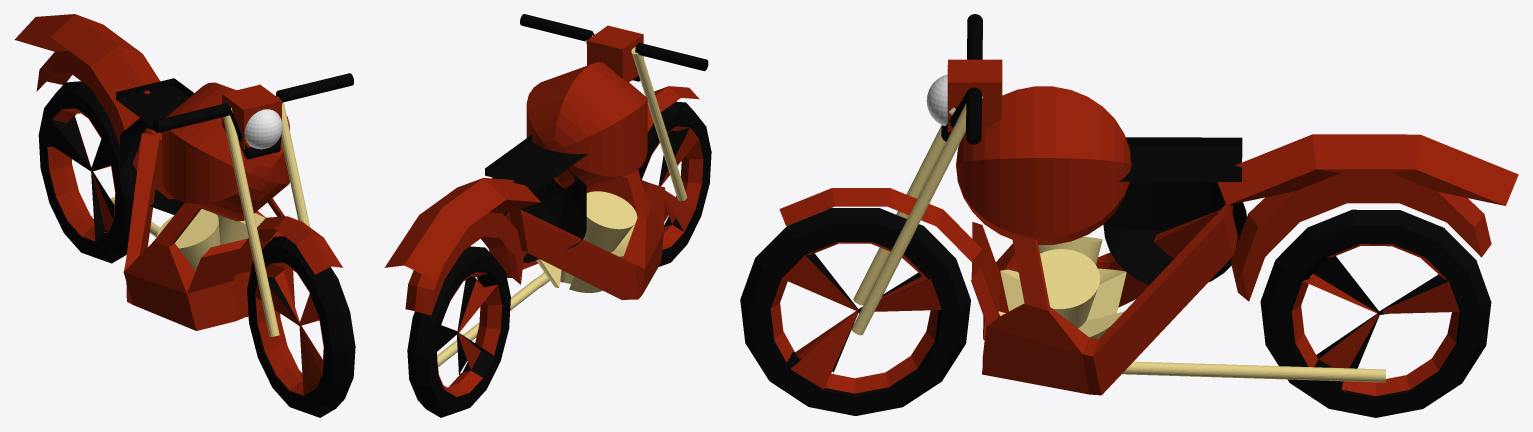
The model's file is oldman.glb.
The picture shows the model from 3 angles, left to right: view 1: azimuth 30°, elevation 25°; view 2: azimuth 150°, elevation 25°; view 3: azimuth 270°, elevation 25°; orthographic projection. The views are drawn at different scales.
Parts seen in each view (by area): view 1: Sphere; view 2: Sphere; view 3: Sphere.
Part boxes in pixels (<box>): Sphere: <box>14,14,355,417</box>; Sphere: <box>384,14,711,417</box>; Sphere: <box>740,14,1518,417</box>.
Size of the model in its own units: 12.22 by 16.79 by 34.35.
